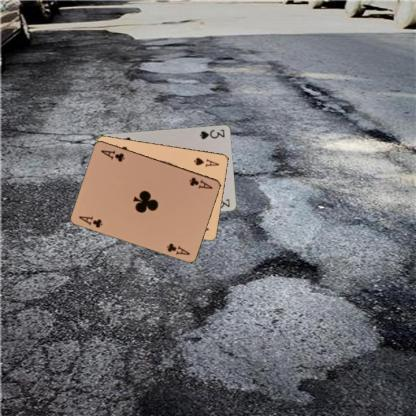3s: (197, 127, 226, 140)
Ac: (76, 213, 104, 229), (186, 175, 214, 190)
As: (191, 155, 221, 167)
